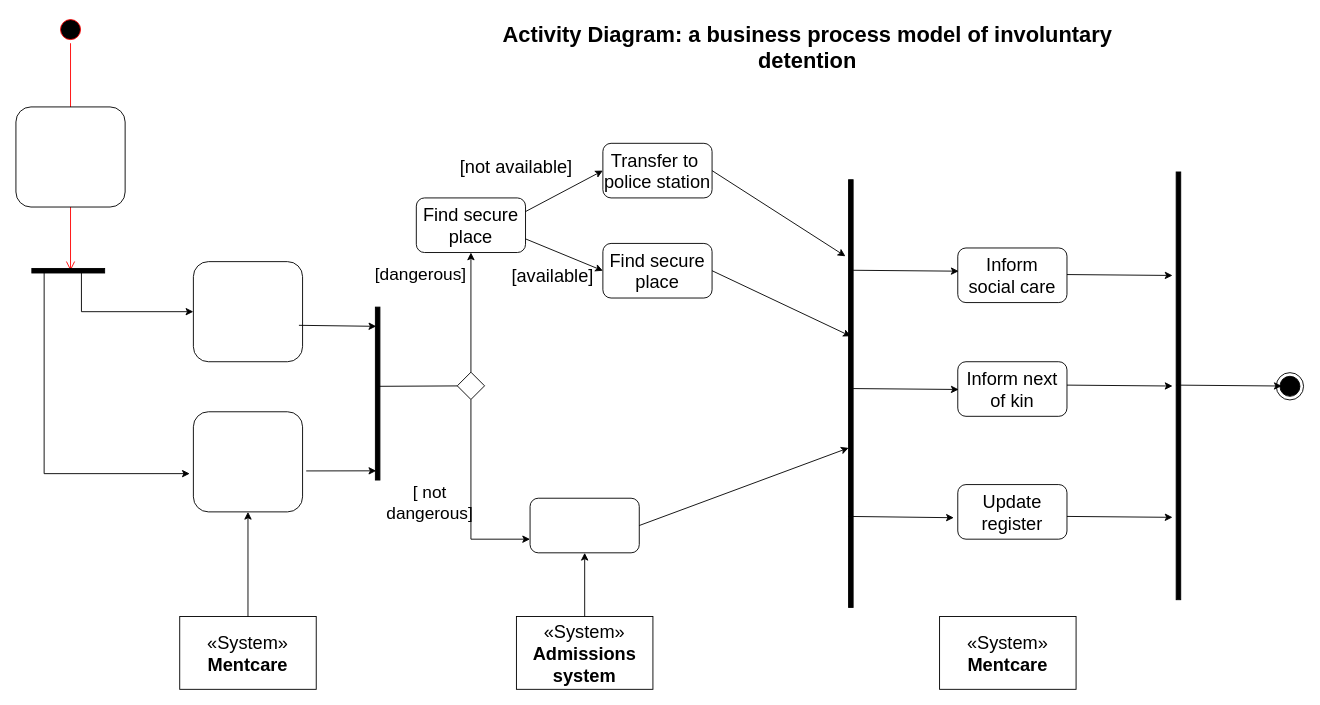
Some shapes in this 1320 by 705 pixel diagram are drawn without their labels. The centre of each missing label's shape, as x and y in pixels:
Admit to hospital: pixel 584 525
Confirm detention decision: pixel 70 156
Inform patient of rights: pixel 247 311
Record detention decision: pixel 247 461
